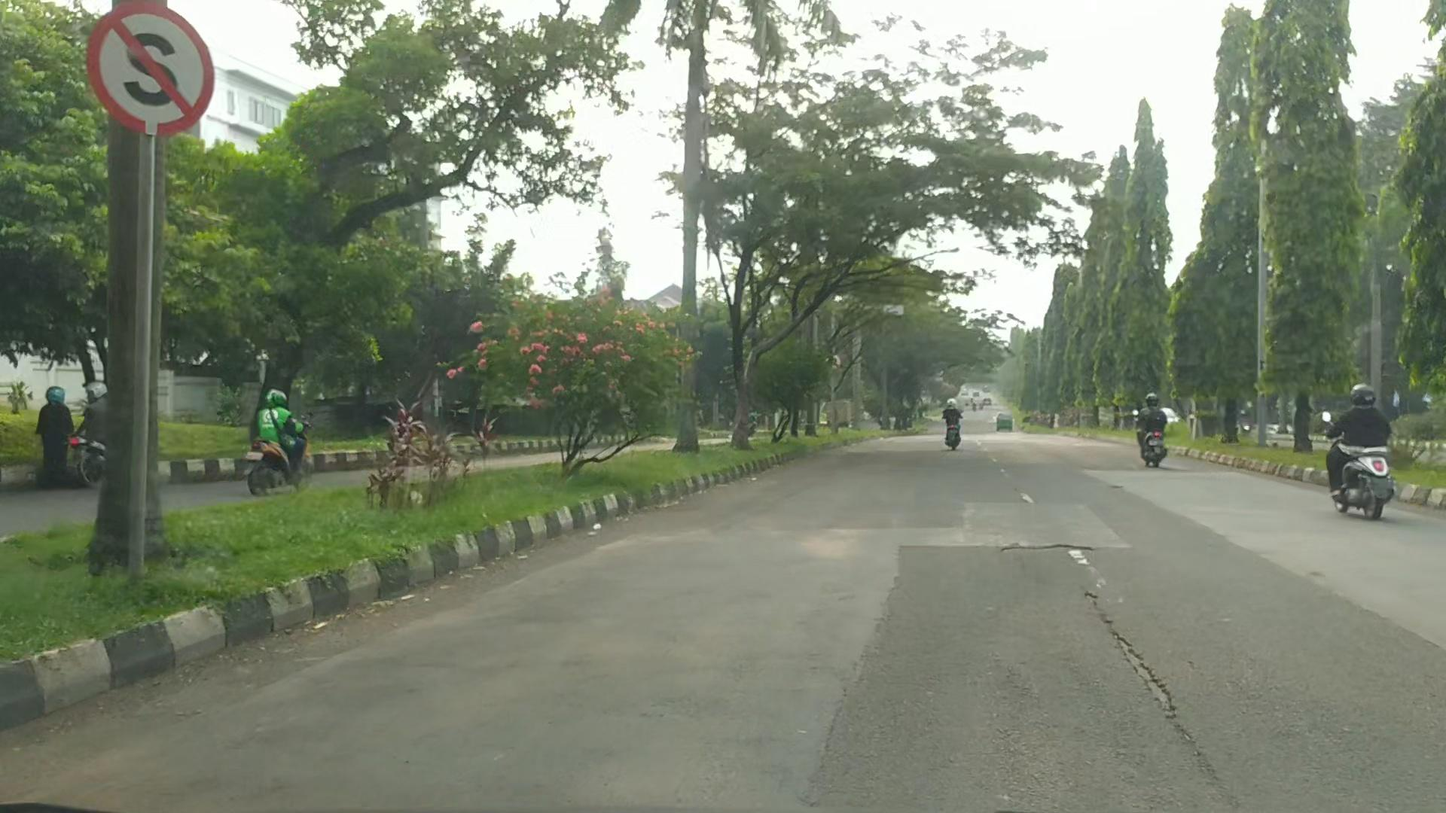pothole: (1110, 632, 1176, 716), (999, 542, 1095, 554), (1084, 590, 1101, 608)
